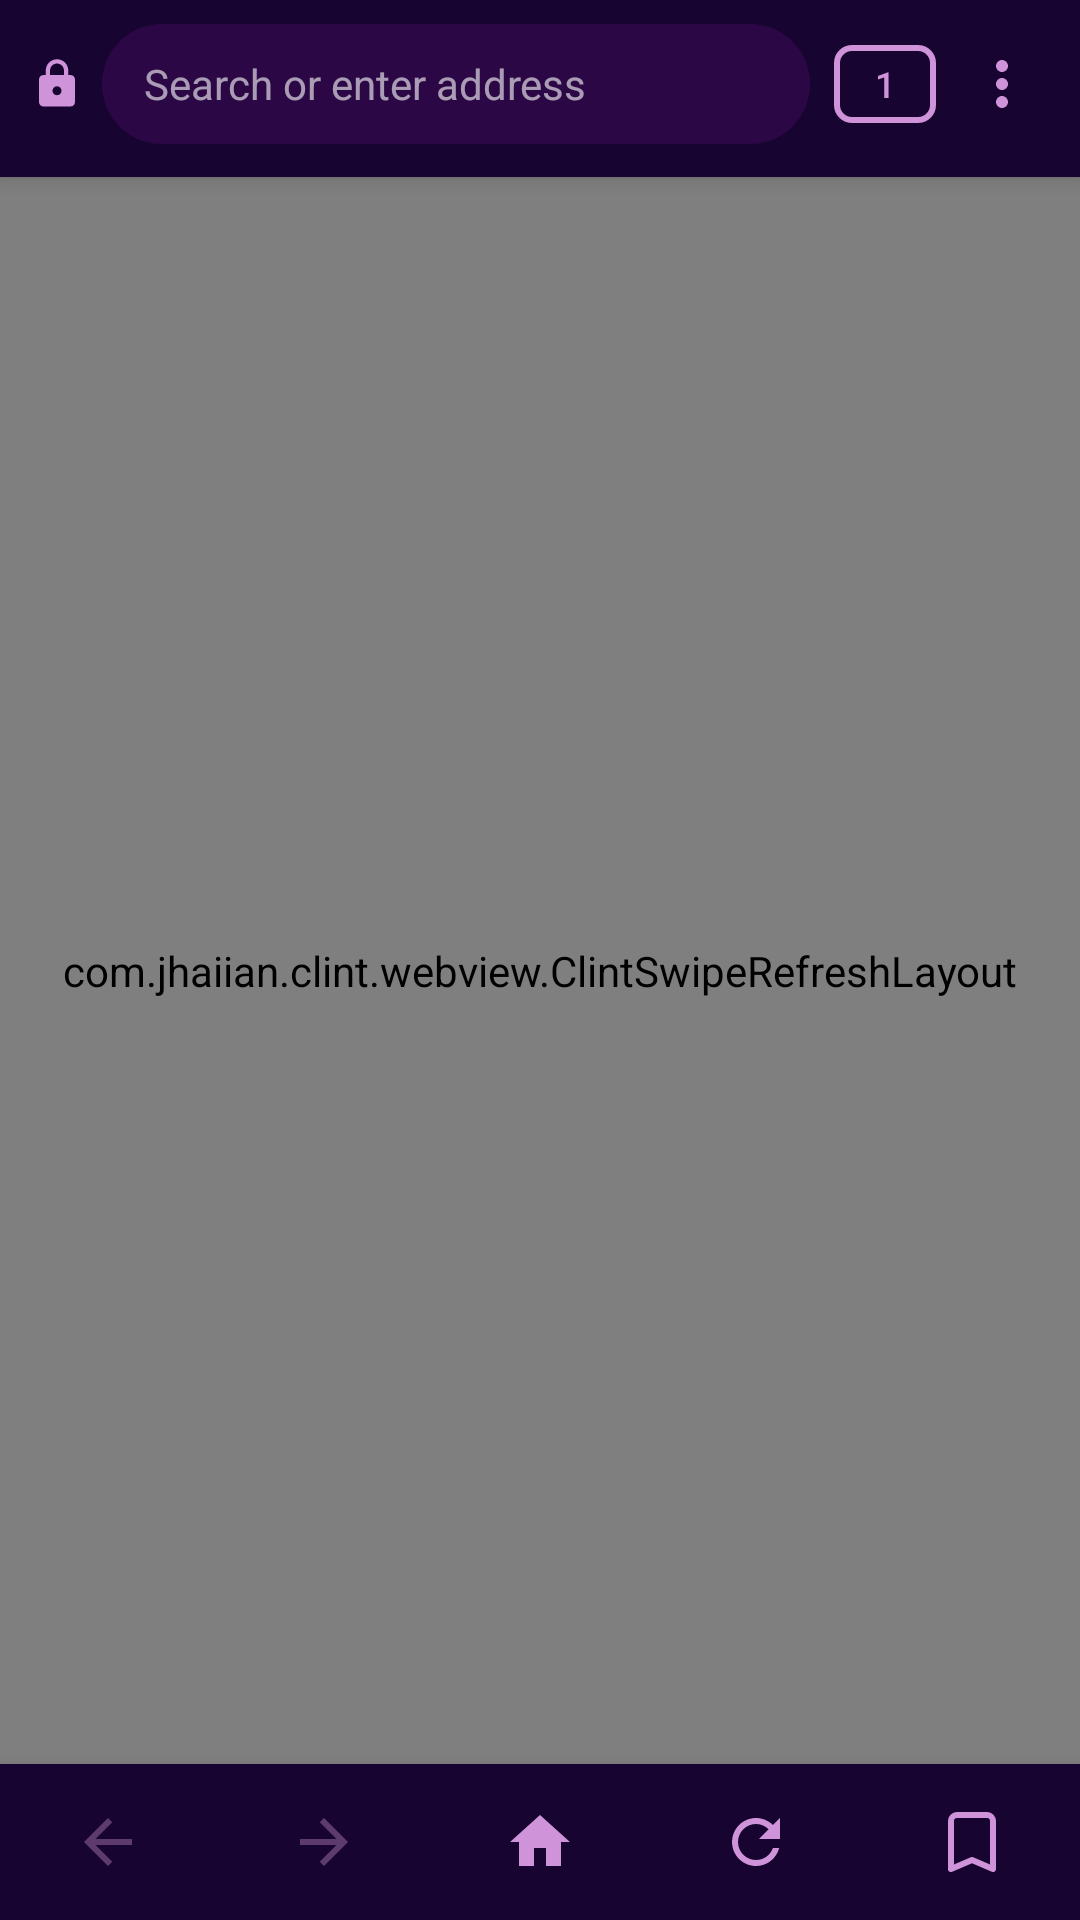

Icons on this 1080px×1920px Android screen, each with its box as bbox=[x1, y1, x2, y2]:
Back: bbox=[84, 1818, 132, 1866]
Bookmark: bbox=[948, 1812, 996, 1872]
Connection security: bbox=[39, 59, 75, 107]
Forward: bbox=[300, 1818, 348, 1866]
Home: bbox=[510, 1815, 570, 1866]
Menu: bbox=[996, 60, 1008, 108]
